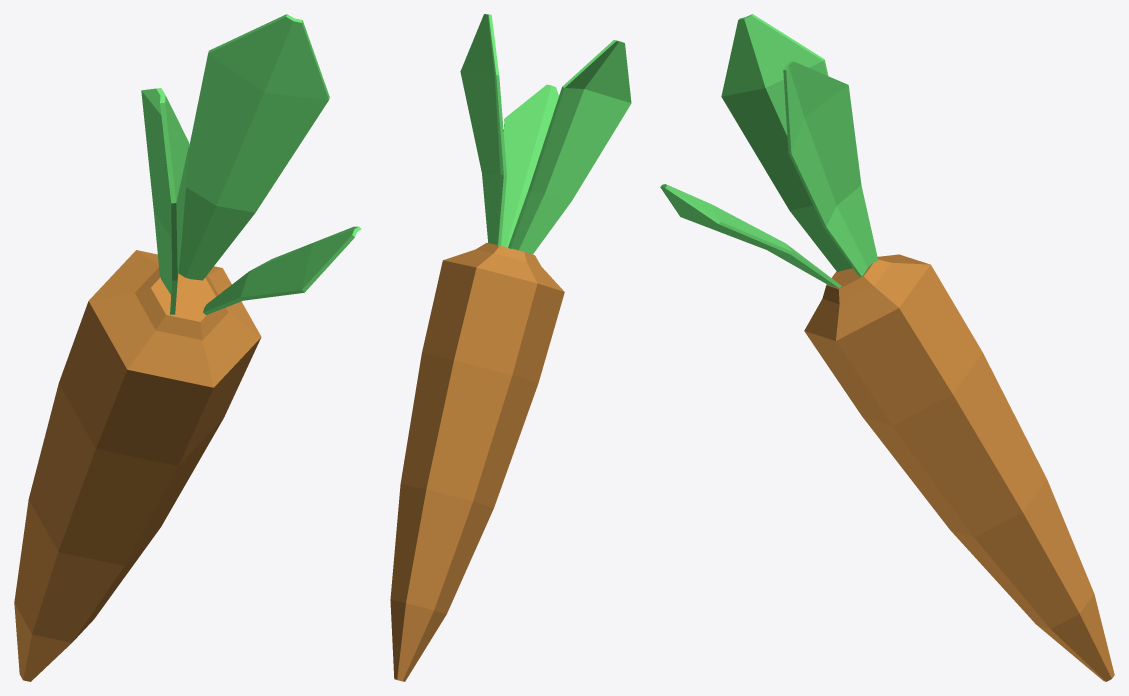
The model's file is Carrot_export.fbx.
The picture shows the model from 3 angles, left to right: view 1: azimuth 30°, elevation 25°; view 2: azimuth 150°, elevation 25°; view 3: azimuth 270°, elevation 25°; orthographic projection. The views are drawn at different scales.
Visible parts, largest first — view 1: Carrot; view 2: Carrot; view 3: Carrot.
Part boxes in pixels (box(x1,y1,x2,y2)): Carrot: box(14, 14, 361, 681); Carrot: box(390, 14, 631, 681); Carrot: box(660, 14, 1114, 681).
Size of the model in its own units: 50.18 by 188 by 120.
